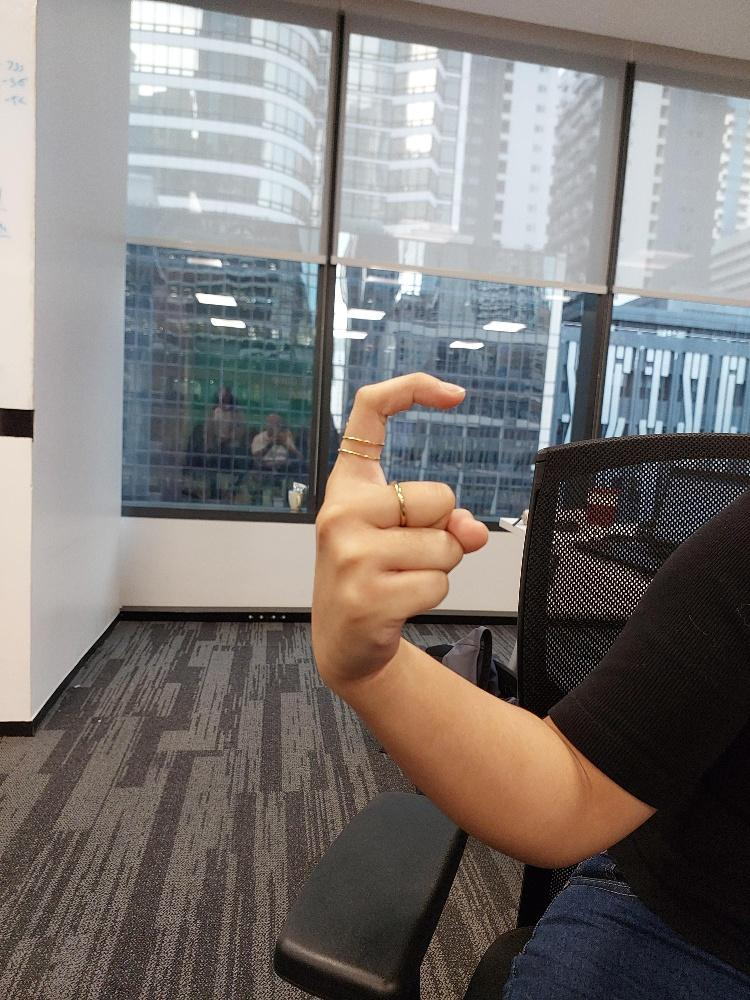x: (306, 366, 491, 683)
